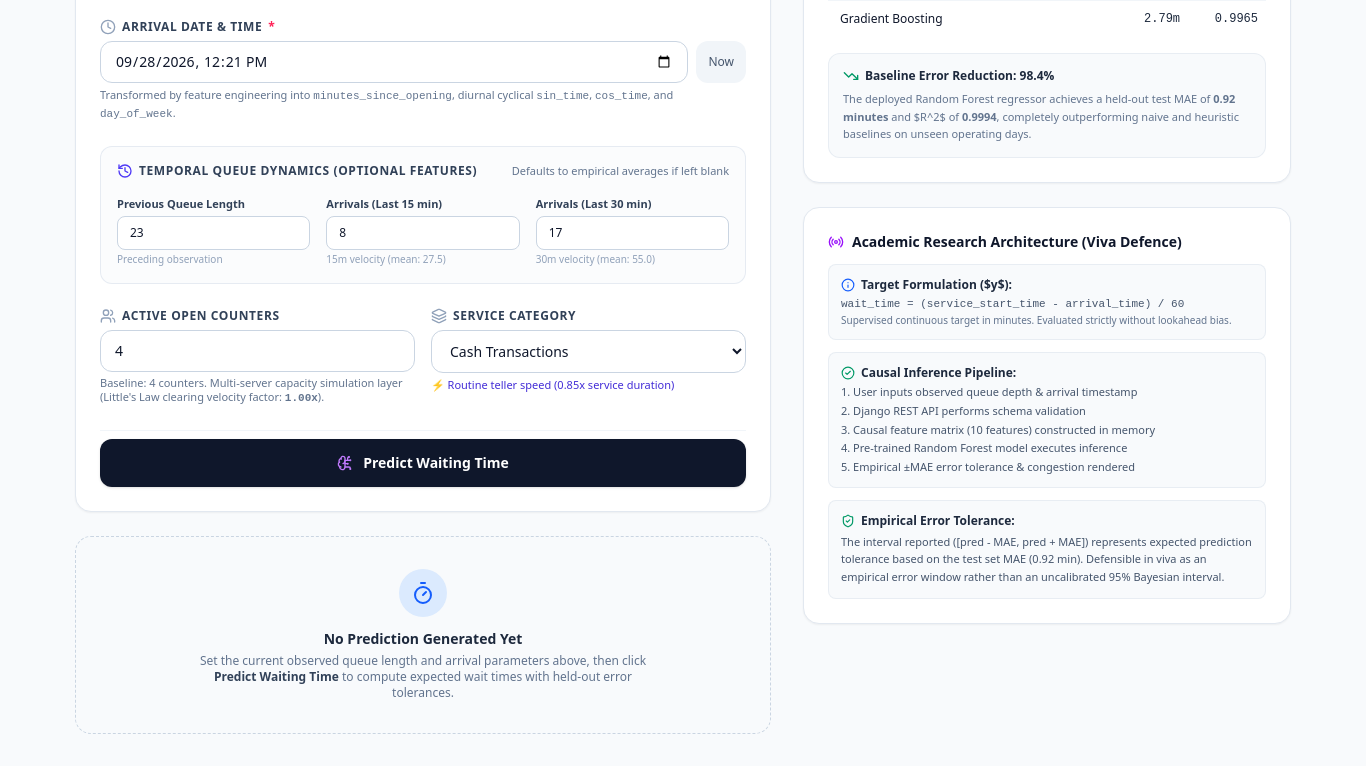
Scenario: Prediction Page Real-Time Integration & User Flow › 9. renders friendly connection failure message when backend server is offline
(page scrolled)
Click the button "Predict Waiting Time" at x=423, y=462, box [100,438,746,486]
(page scrolled)
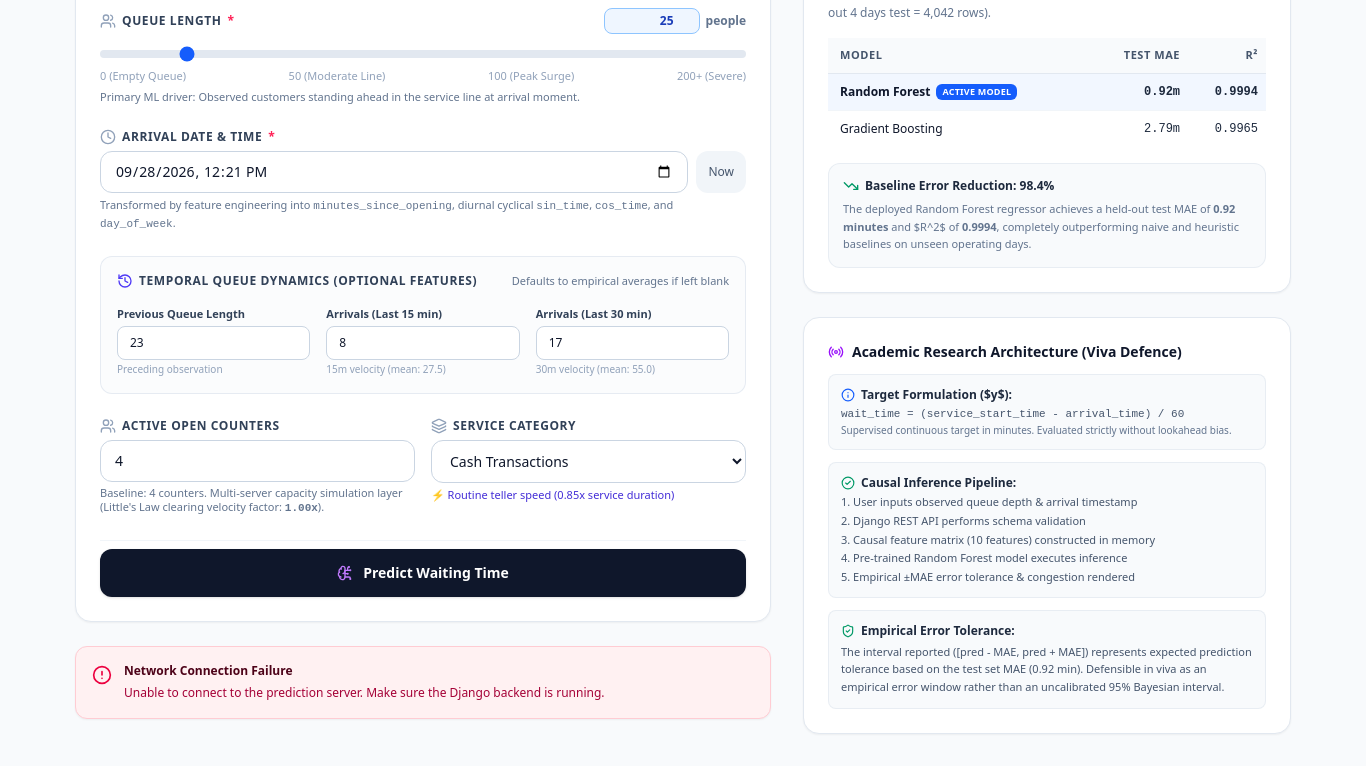
Expected: the message is shown, [75,646,771,719]
Expected: the text "Network Connection Failure" is shown, [124,662,292,678]
Expected: the text "Unable to connect to the prediction server" is shown, [124,684,604,700]
